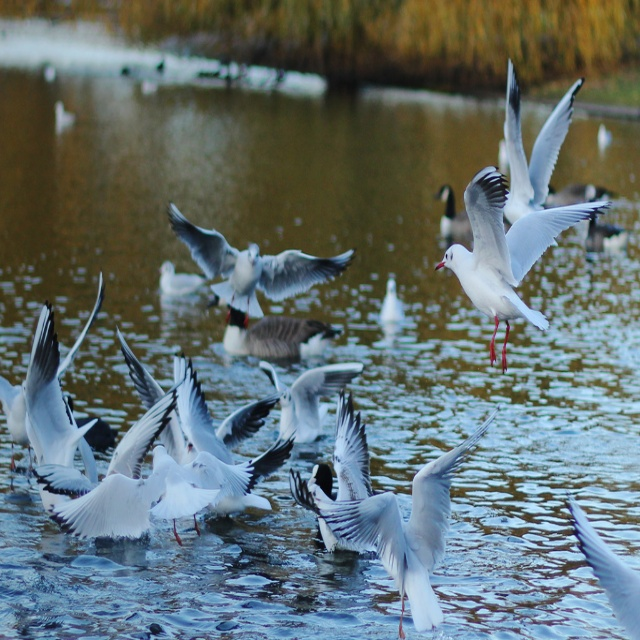Duck: (434, 165, 611, 372)
